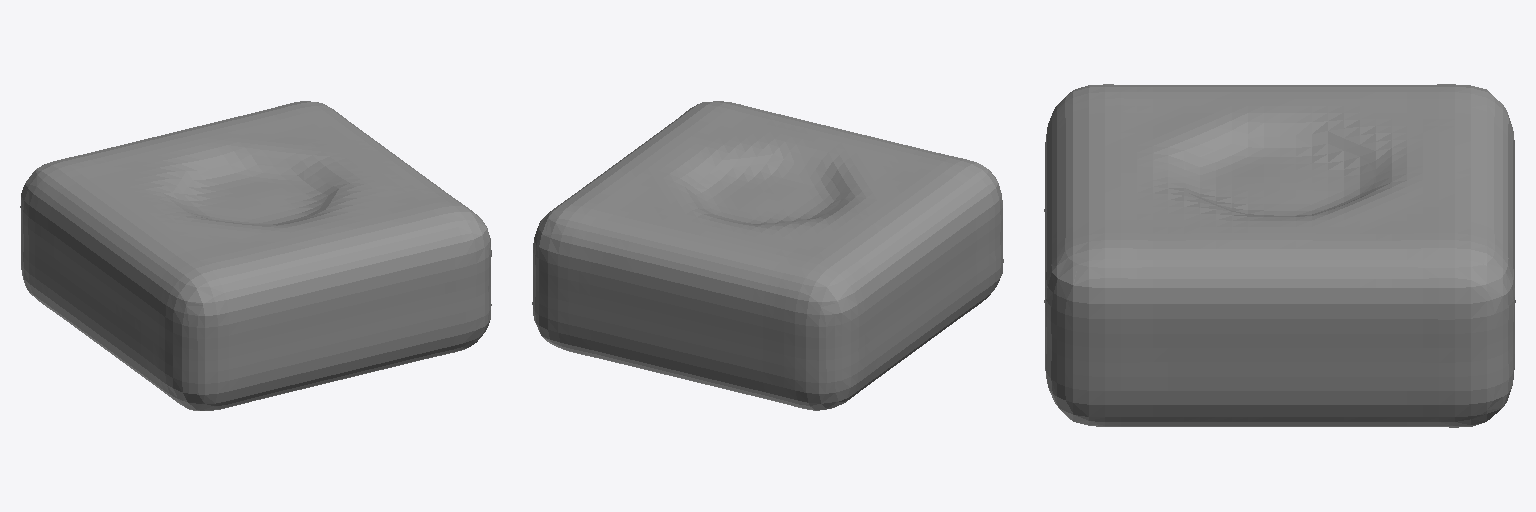
URDF robot description (cube.urdf):
<?xml version="0.0" ?> 
<robot name="cube.urdf"> 
<link name="legobrick"> 
<contact> 
<lateral_friction value="5.0"/> 
<rolling_friction value="0.0"/> 
<contact_cfm value="0.0"/> 
<contact_erp value="1.0"/> 
</contact> 
<inertial> 
<origin rpy="0 0 0" xyz="0.0 0.0 0.0"/> 
<mass value=".01"/> 
<inertia ixx="1" ixy="0" ixz="0" iyy="1" iyz="0" izz="1"/> 
</inertial> 
<visual> 
<origin rpy="1.570796 0 0" xyz="-0.025857421858780042 0.02585690148573165 -0.00976023428406397"/> 
<geometry> 
<mesh filename="T02_1.obj" scale="0.0005600034733095426 0.0005600034733095426 0.0005600034733095426"/> 
</geometry> 
<material name="yellow"> 
<color rgba="0.6 0.6 0.6 1"/> 
</material> 
</visual> 
<collision> 
<origin rpy="1.570796 0 0" xyz="-0.025857421858780042 0.02585690148573165 -0.00976023428406397"/> 
<geometry> 
<mesh filename="T02_1.obj" scale="0.0005600034733095426 0.0005600034733095426 0.0005600034733095426"/> 
</geometry> 
</collision> 
</link> 
</robot>

--- What the picture shows (computed from the rendered views, not written in the file) ---
3 views of the same robot in one strip: view 1: azimuth 30°, elevation 25°; view 2: azimuth 150°, elevation 25°; view 3: azimuth 270°, elevation 25° (orthographic).
Robot: cube.urdf — 1 links, 0 joints (none); root link legobrick; default pose: every joint at zero.
Visible links, largest first — view 1: legobrick; view 2: legobrick; view 3: legobrick.
Link boxes in pixels (x1,y1,x2,y2): legobrick: [20, 101, 491, 410]; legobrick: [532, 101, 1003, 410]; legobrick: [1044, 84, 1515, 427].
Bounding box of the posed robot: 0.056 × 0.056 × 0.0237 m (x, y, z).
1 mesh visuals loaded from 1 distinct referenced files (1 OBJ).
